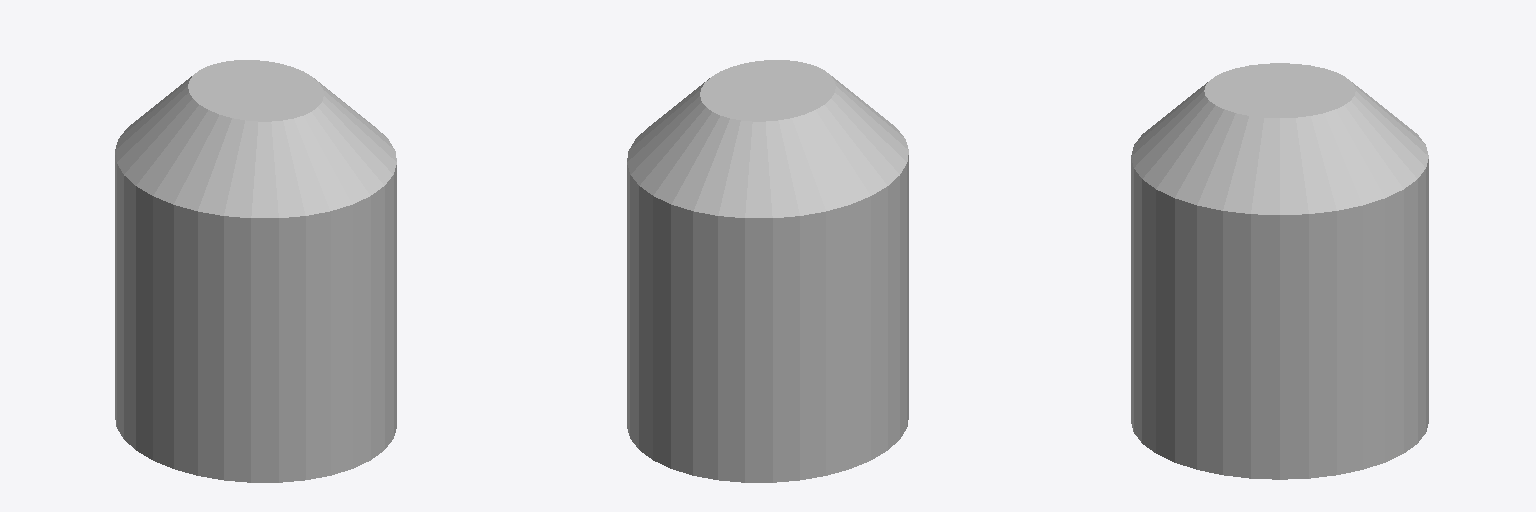
Rendered from bin.obj.
3 renders of one model, left to right at view 1: azimuth 30°, elevation 25°; view 2: azimuth 150°, elevation 25°; view 3: azimuth 270°, elevation 25°, orthographic.
Parts seen in each view (by area): view 1: Cylinder; view 2: Cylinder; view 3: Cylinder.
Boxes of the visible parts, x1,y1,x2,y2 form: Cylinder: [115, 60, 396, 482]; Cylinder: [627, 60, 908, 482]; Cylinder: [1131, 63, 1428, 479].
Bounding box in the file's own units: 1.79 × 2.36 × 1.93.